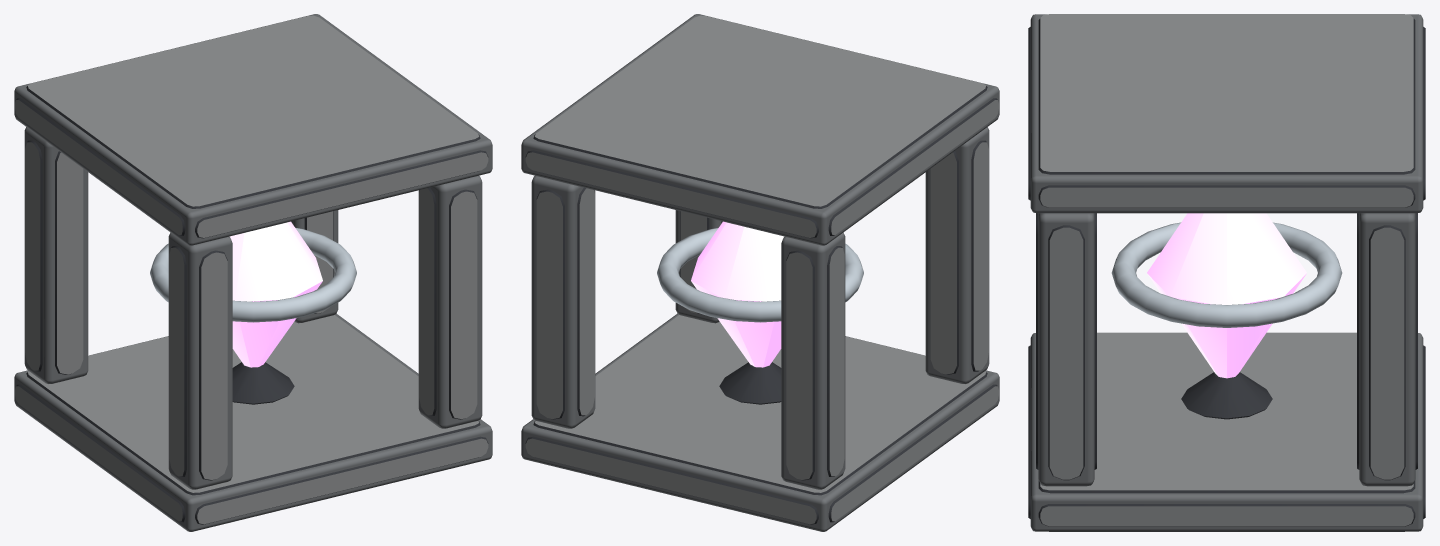
File: R4X_CoreBooster.glb
3 views of the same model, side by side, from view 1: azimuth 30°, elevation 25°; view 2: azimuth 150°, elevation 25°; view 3: azimuth 270°, elevation 25° (orthographic). The views are drawn at different scales.
Visible parts, largest first — view 1: R4X_CoreBooster_Body; view 2: R4X_CoreBooster_Body; view 3: R4X_CoreBooster_Body.
Boxes of the visible parts, x1,y1,x2,y2 form: R4X_CoreBooster_Body: (14, 14, 492, 531); R4X_CoreBooster_Body: (521, 14, 999, 531); R4X_CoreBooster_Body: (1028, 14, 1425, 531).
Bounding box in the file's own units: 0.52 × 0.52 × 0.52.
